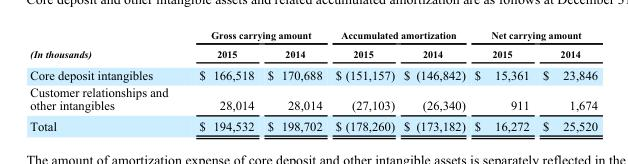table: (29, 28, 597, 133)
table column: (29, 28, 182, 133), (182, 28, 260, 133), (398, 28, 469, 133), (328, 28, 398, 133), (260, 28, 328, 133), (469, 28, 535, 133), (535, 28, 597, 133)
table column header: (29, 28, 597, 63)
table row: (29, 83, 597, 115), (29, 43, 597, 63), (29, 63, 597, 83), (29, 115, 597, 133), (29, 28, 597, 43)
table spanning cell: (29, 28, 182, 63), (182, 28, 328, 43), (328, 28, 469, 43), (469, 28, 597, 43)
